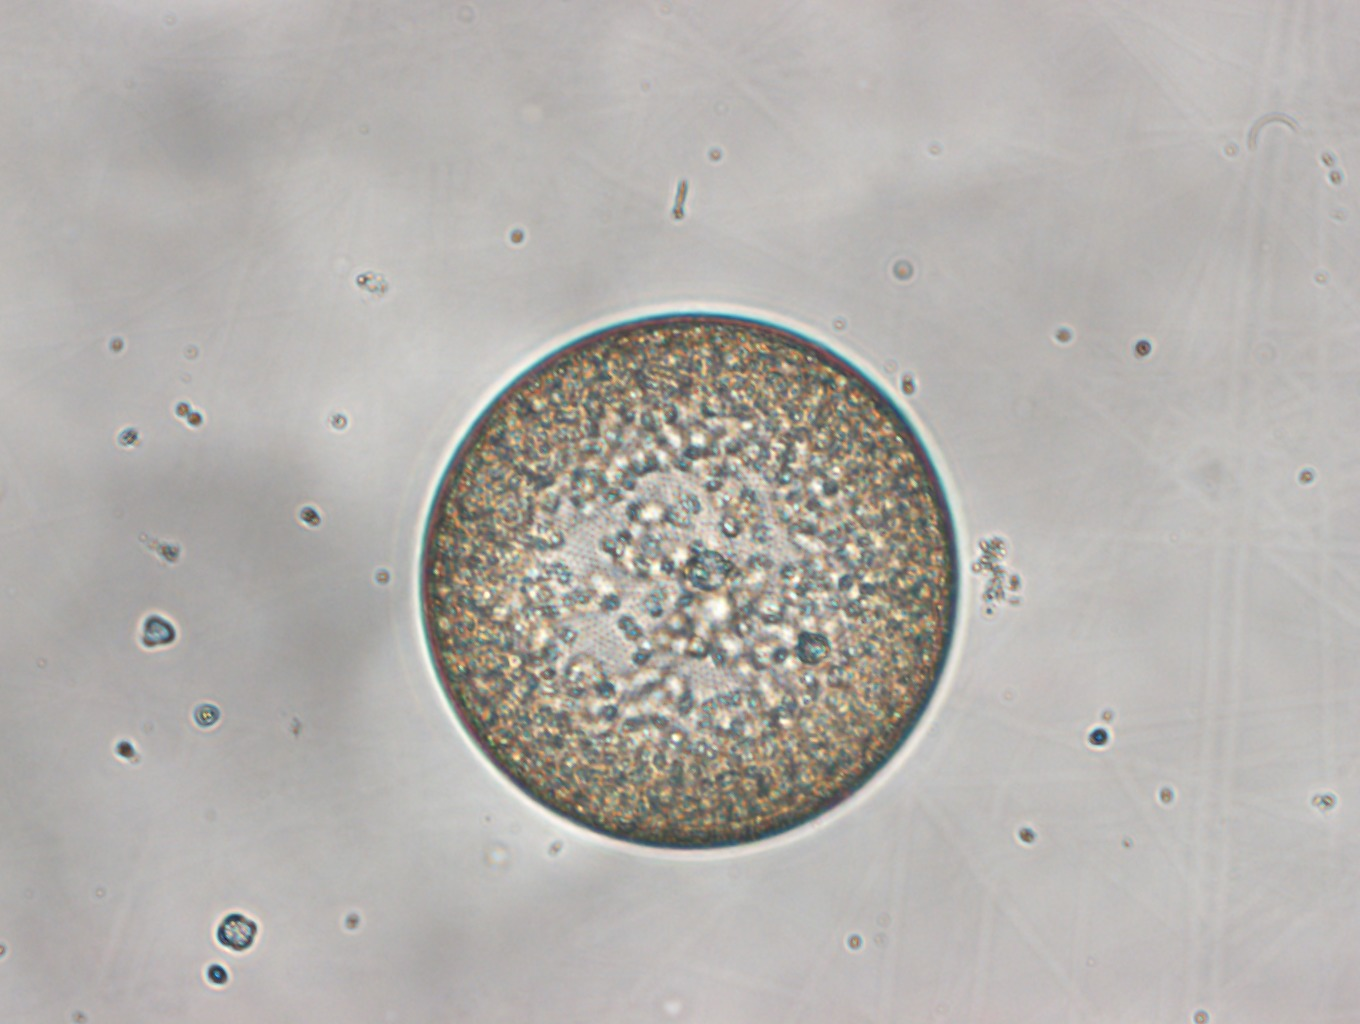coscinodiscus: (416, 310, 960, 852)
